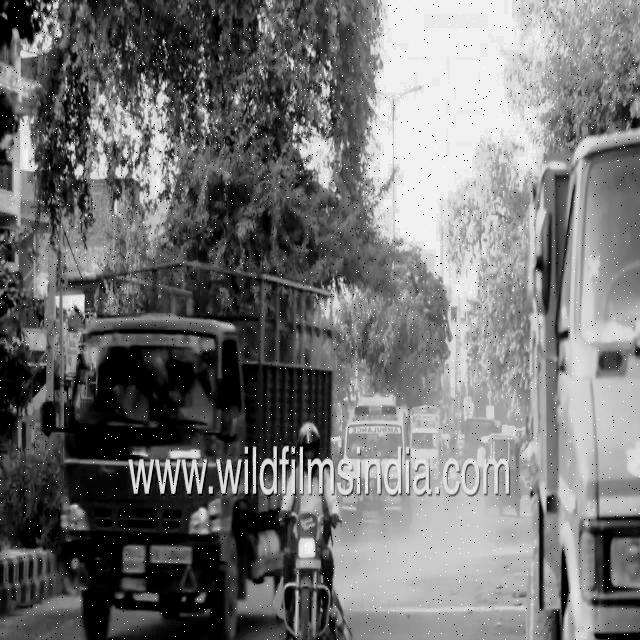Ambulance: (347, 388, 411, 456)
